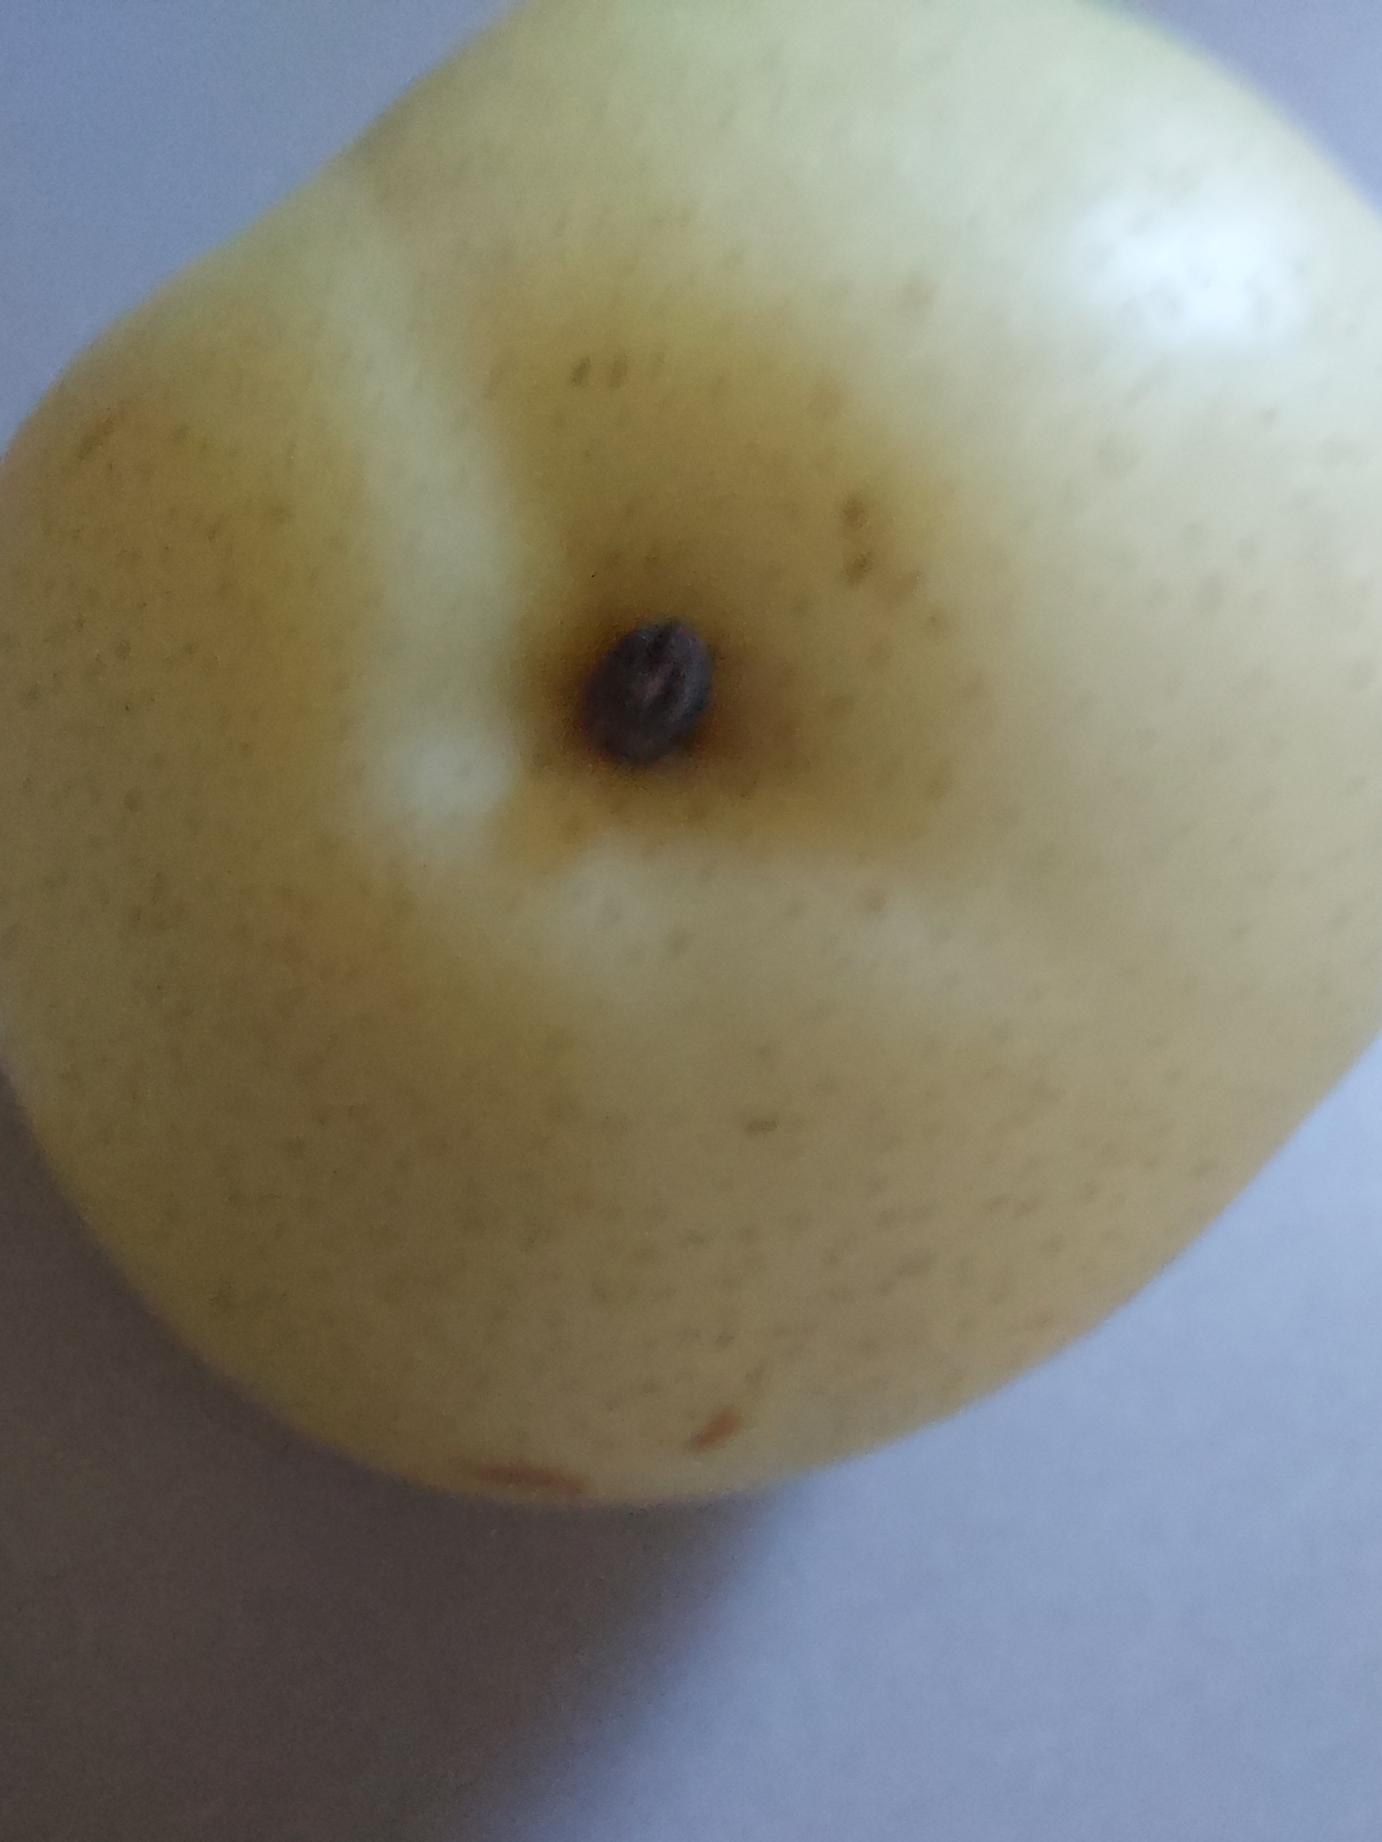Good Pear: (0, 0, 1382, 1539)
